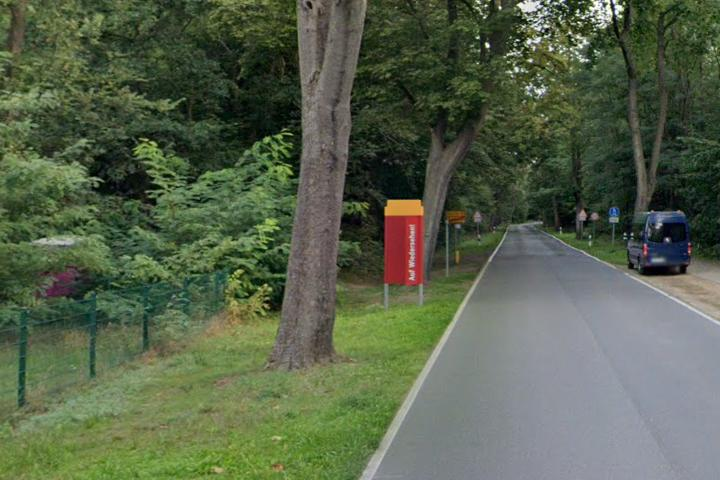vehicle: (621, 209, 695, 278)
